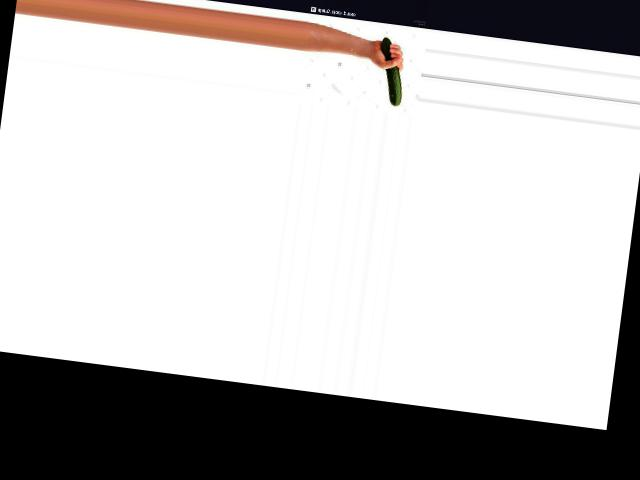cucumber: (375, 37, 409, 106)
